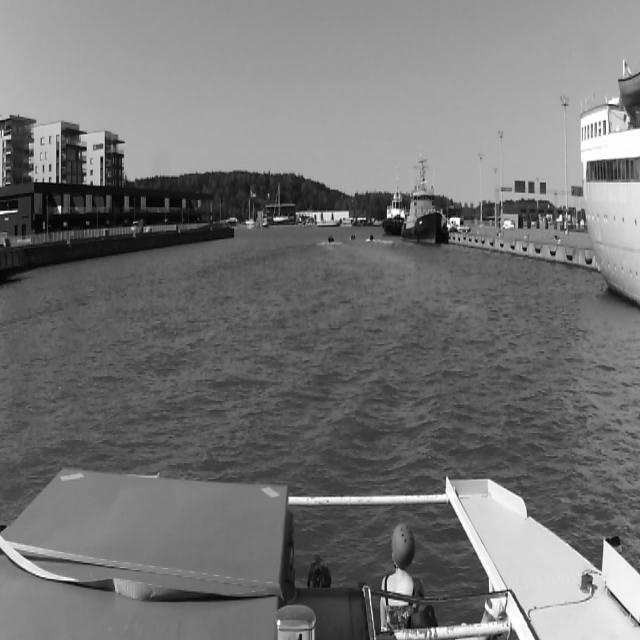ship: (579, 58, 640, 306), (401, 147, 444, 248), (383, 177, 401, 236), (270, 181, 288, 223), (350, 234, 356, 241), (328, 235, 334, 242), (370, 234, 374, 242)
